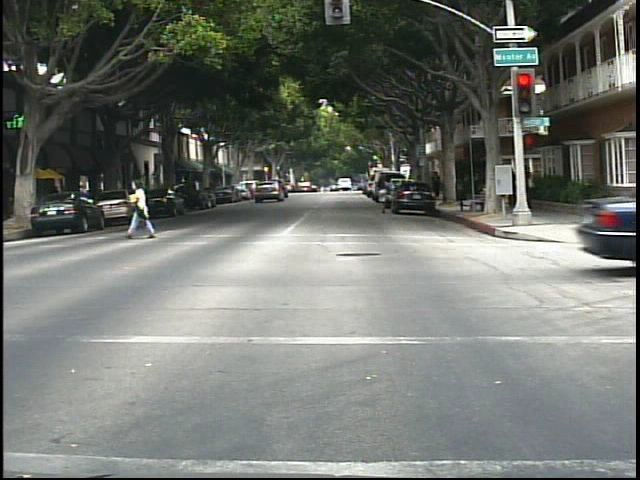person: (123, 173, 159, 241), (373, 175, 392, 217), (434, 168, 442, 200)
